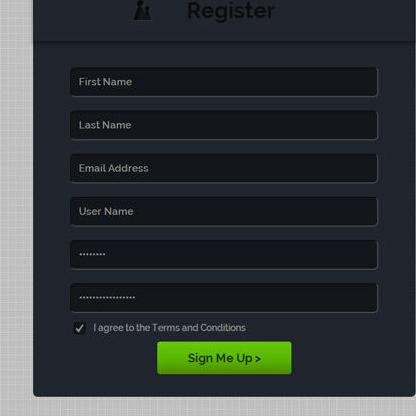button: (155, 340, 296, 376)
checkbox: (70, 320, 89, 336)
checkbox_with_label: (67, 318, 247, 338)
field: (68, 64, 380, 100), (68, 237, 382, 272), (67, 281, 381, 316), (67, 108, 379, 142), (67, 152, 379, 185), (68, 196, 382, 228)
